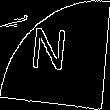N_S: (34, 28, 76, 82)
